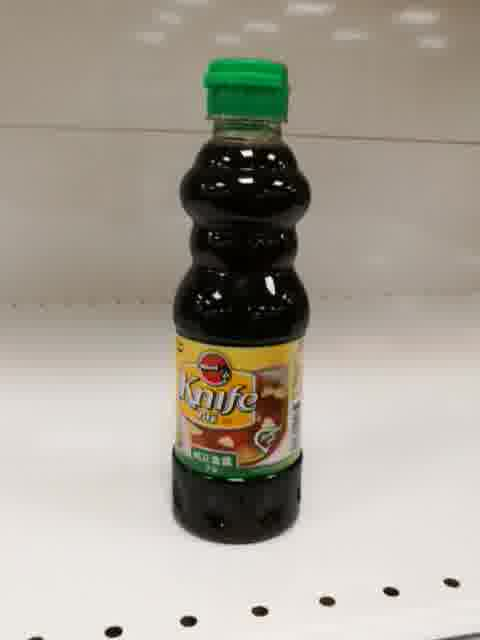cookingoil: (169, 56, 314, 548)
